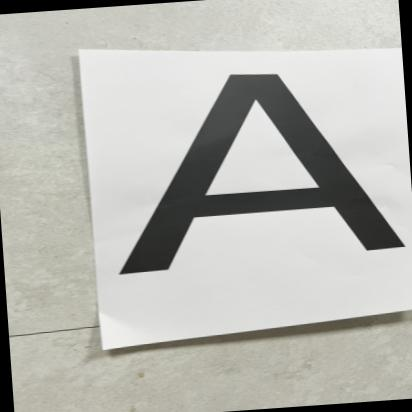seat: (103, 62, 412, 277)
